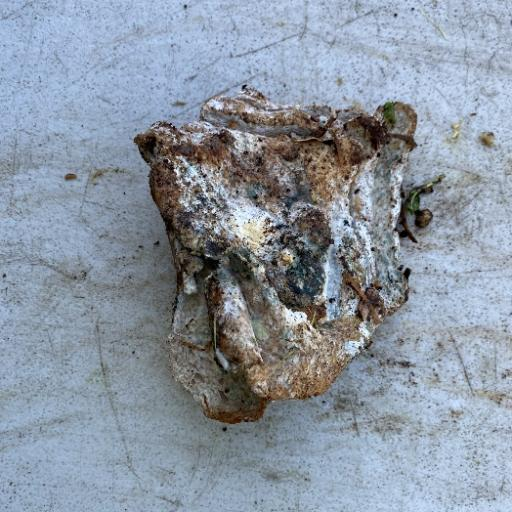Waste: (132, 83, 422, 425)
